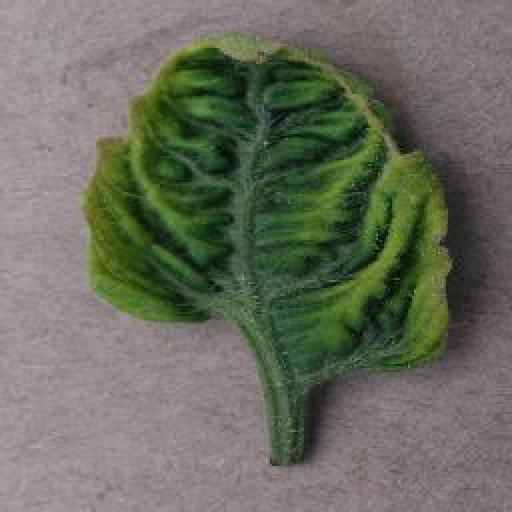disease_tomato: (80, 36, 455, 389)
